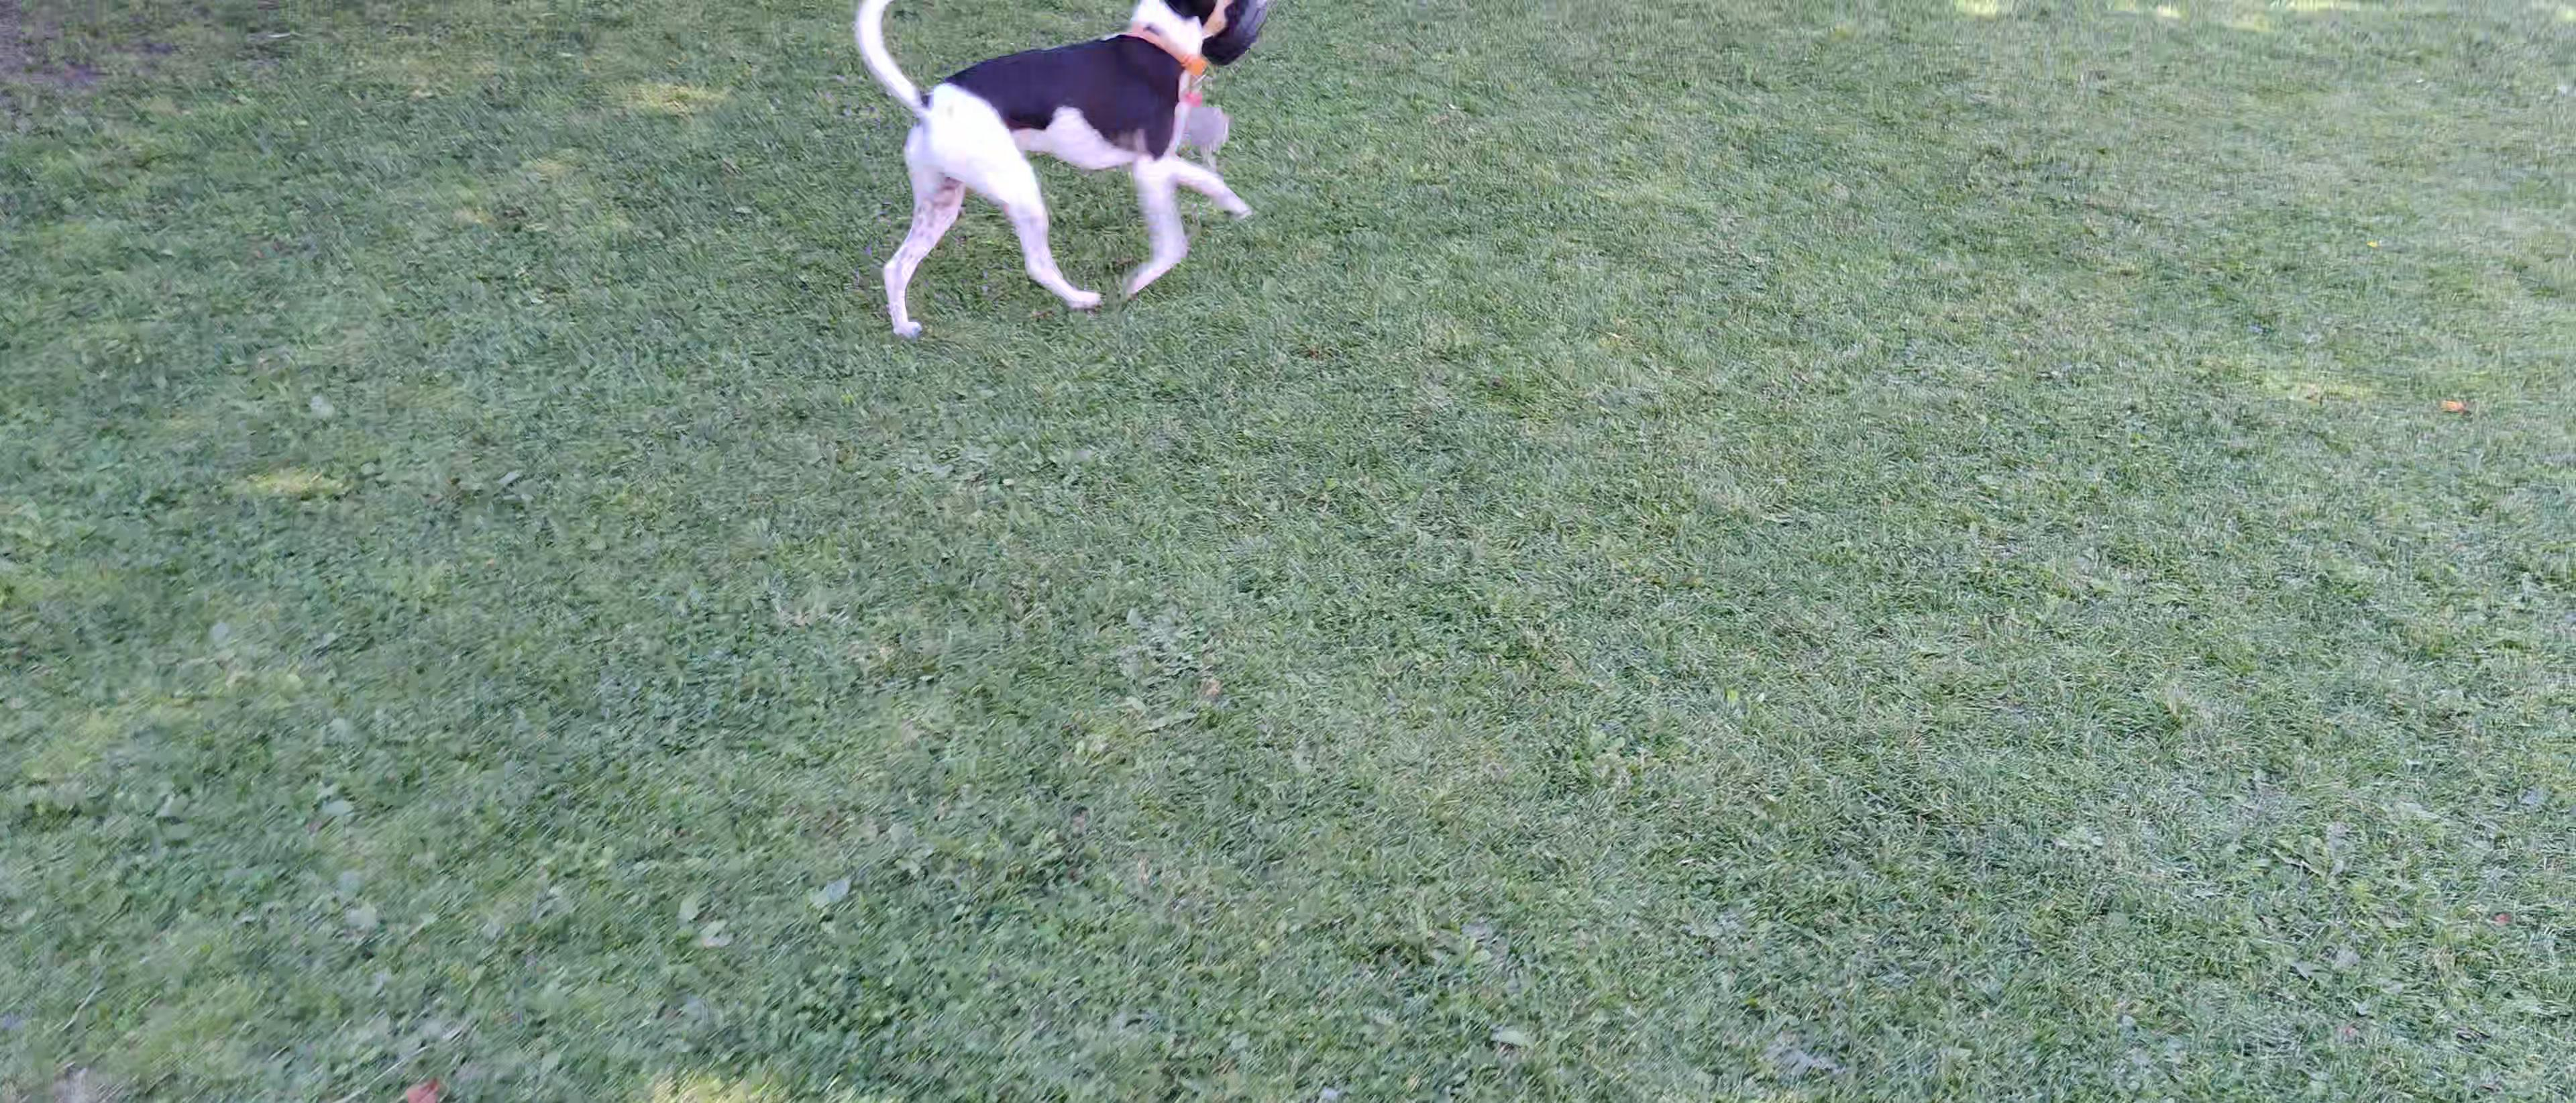Dog: (844, 0, 1273, 345)
